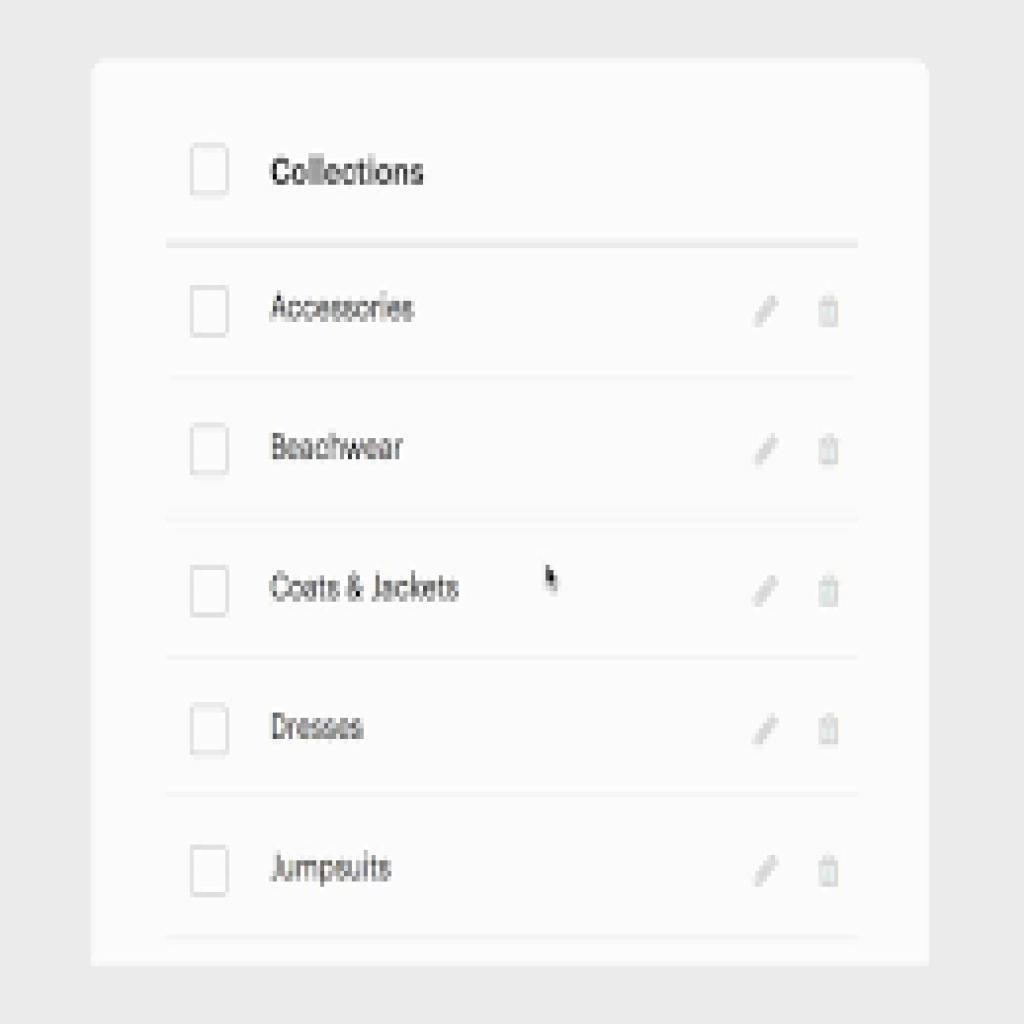checkbox: (188, 566, 230, 620), (190, 845, 231, 900), (189, 142, 230, 195), (192, 285, 231, 339), (190, 424, 230, 475), (192, 704, 228, 756)
icon: (747, 705, 785, 758), (811, 847, 847, 894), (750, 846, 785, 892), (748, 432, 784, 473), (812, 569, 845, 613), (815, 709, 845, 756), (751, 569, 781, 613), (814, 292, 842, 338), (814, 431, 846, 470), (750, 296, 779, 334)
